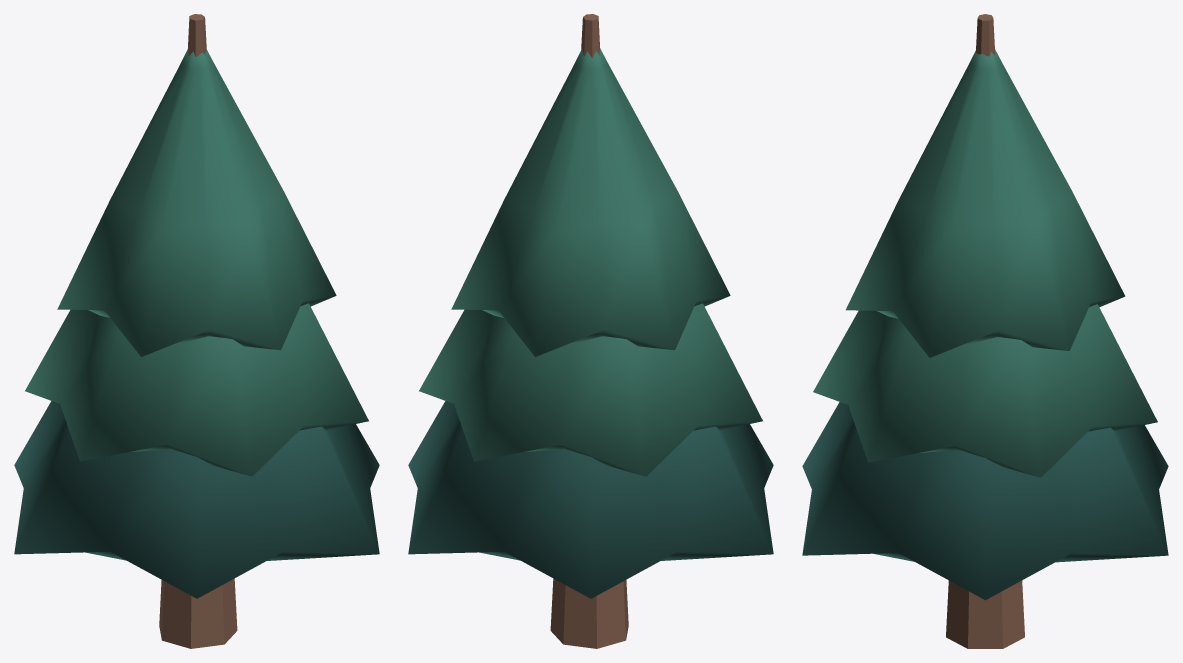
The model's file is pine_tree_small_01.glb.
3 renders of one model, left to right at view 1: azimuth 30°, elevation 25°; view 2: azimuth 150°, elevation 25°; view 3: azimuth 270°, elevation 25°, orthographic.
Visible parts, largest first — view 1: pine_tree_small_01; view 2: pine_tree_small_01; view 3: pine_tree_small_01.
Part boxes in pixels (x1,y1,x2,y2): pine_tree_small_01: [14, 14, 379, 648]; pine_tree_small_01: [408, 14, 773, 648]; pine_tree_small_01: [802, 14, 1168, 648].
Bounding box in the file's own units: 0.9333 × 1.5 × 0.8082.
